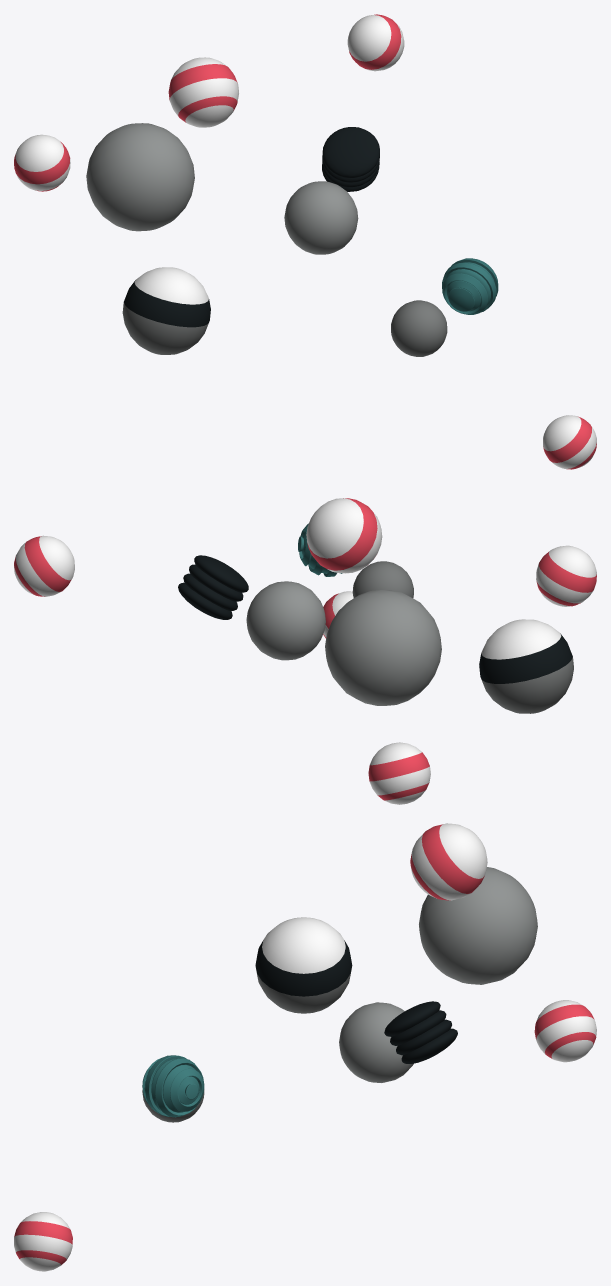
The model's file is balls.fbx.
3 views of the same model, one above another, from view 1: azimuth 30°, elevation 25°; view 2: azimuth 150°, elevation 25°; view 3: azimuth 270°, elevation 25° (orthographic). The views are drawn at different scales.
Visible parts, largest first — view 1: Mesh (4); view 2: Mesh (4); view 3: Mesh (4).
Part boxes in pixels (x1,y1,x2,y2): Mesh (4): (14,14,596,469); Mesh (4): (14,498,596,713); Mesh (4): (14,742,596,1271).
Bounding box in the file's own units: 3756 × 2464 × 3775.
